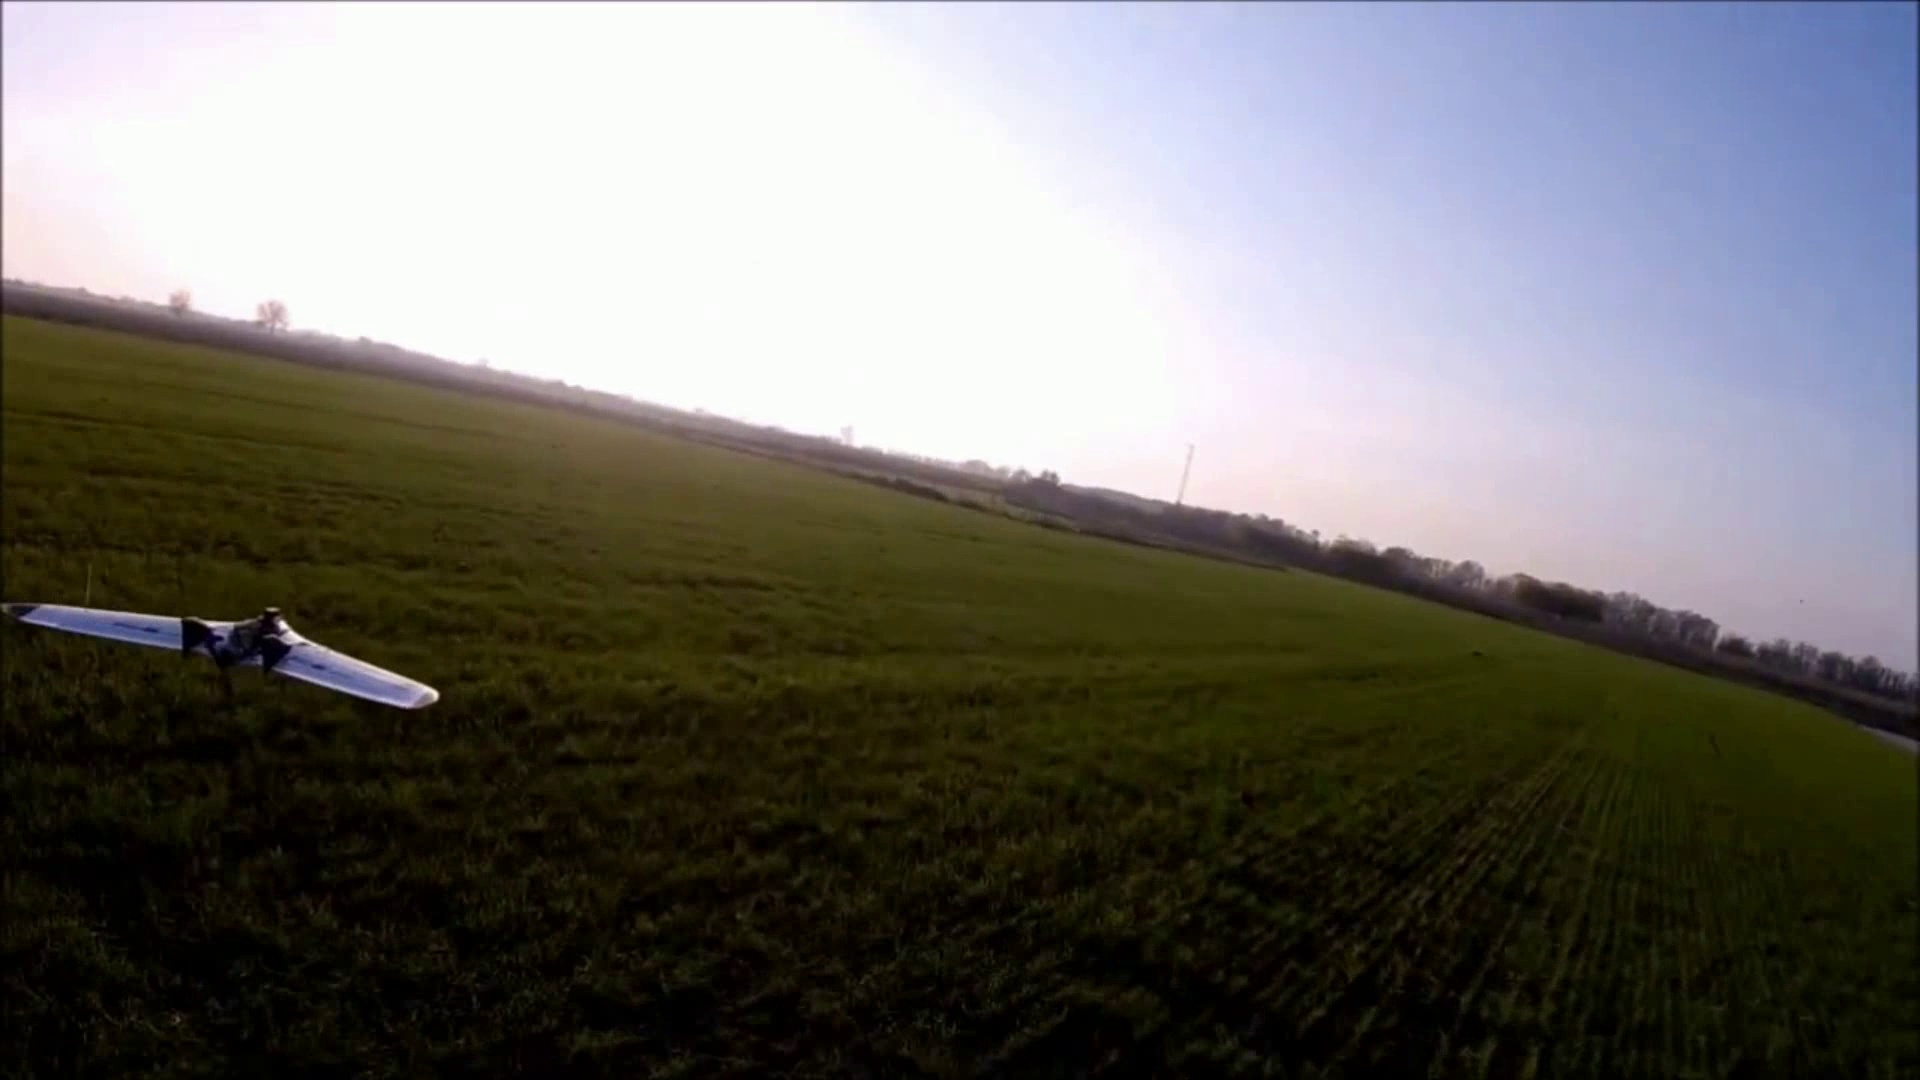airplane: (8, 601, 436, 711)
